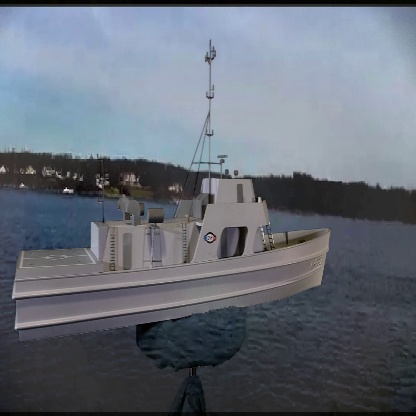YP689: (12, 34, 332, 345)
